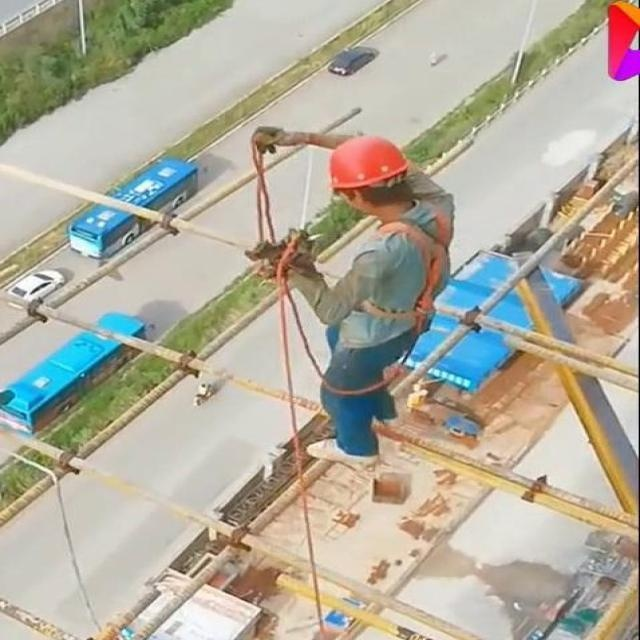Arnes_seguridad: (344, 198, 459, 333)
